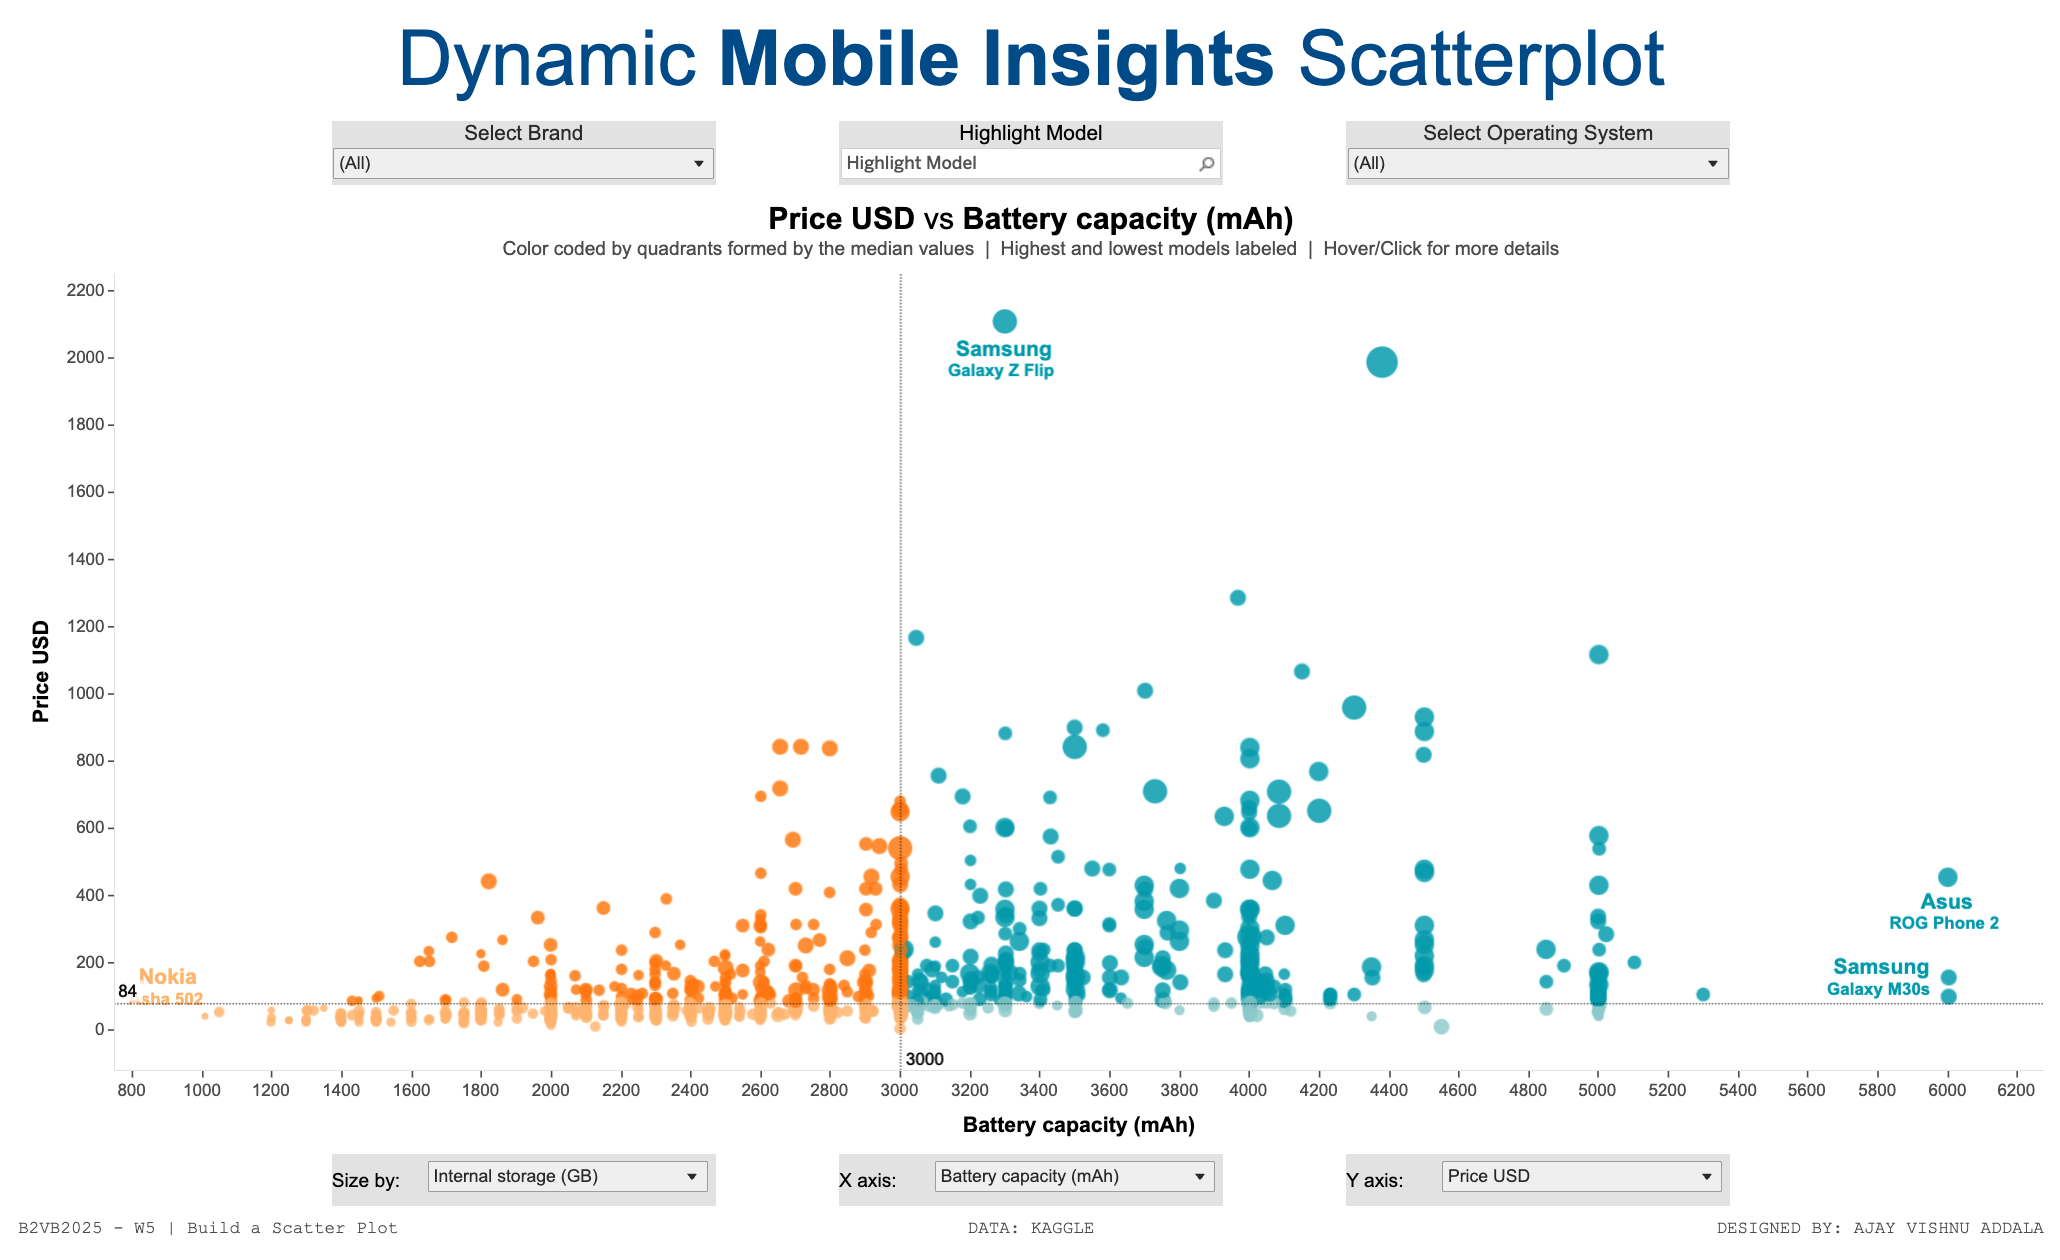

Layout of this report page (visuals, bound fields, positions):
{"tool":"tableau","page":{"name":"B2VB2025 W5","canvas":[1290,800],"ordinal":0},"visuals":[{"type":"text","box":[8,8,1274,80]},{"type":"filter","title":"Scatter Plot","param":"[federated.10leg5l0alotvx10jt6eg05g17ui].[none:Brand:nk]","box":[208,88,240,40]},{"type":"highlighter","title":"Scatter Plot","param":"[federated.10leg5l0alotvx10jt6eg05g17ui].[none:Model:nk]","box":[525,88,240,40]},{"type":"filter","title":"Scatter Plot","param":"[federated.10leg5l0alotvx10jt6eg05g17ui].[none:Operating system:nk]","box":[842,88,240,40]},{"type":"worksheet","title":"Scatter Plot","mark":"Automatic","rows":["c_X_Value (copy)_1967158299460620291"],"cols":["Calculation_1967158299460493314","Calculation_1967158299460493314"],"box":[8,128,1274,606]},{"type":"text","box":[208,734,55,32]},{"type":"parameter","param":"[Parameters].[p_Y_axis (copy)_1967158299460354049]","box":[263,734,185,32]},{"type":"text","box":[525,734,55,32]},{"type":"parameter","param":"[Parameters].[Parameter 1]","box":[580,734,185,32]},{"type":"text","box":[842,734,55,32]},{"type":"parameter","param":"[Parameters].[p_X_axis (copy)_1967158299460308992]","box":[897,734,185,32]},{"type":"text","box":[8,766,440,26]},{"type":"text","box":[448,766,394,26]},{"type":"text","box":[842,766,440,26]}]}

Visuals, with their boxes in screenshot pixels (x1, y1, x2, y2), scaled from the page's 1290x800 canvas onto the 2060x1260 screenshot:
text: 13/13/2047/139
"Scatter Plot" filter: 332/139/715/202
"Scatter Plot" highlighter: 838/139/1222/202
"Scatter Plot" filter: 1345/139/1728/202
"Scatter Plot" worksheet: 13/202/2047/1156
text: 332/1156/420/1206
parameter: 420/1156/715/1206
text: 838/1156/926/1206
parameter: 926/1156/1222/1206
text: 1345/1156/1432/1206
parameter: 1432/1156/1728/1206
text: 13/1206/715/1247
text: 715/1206/1345/1247
text: 1345/1206/2047/1247
